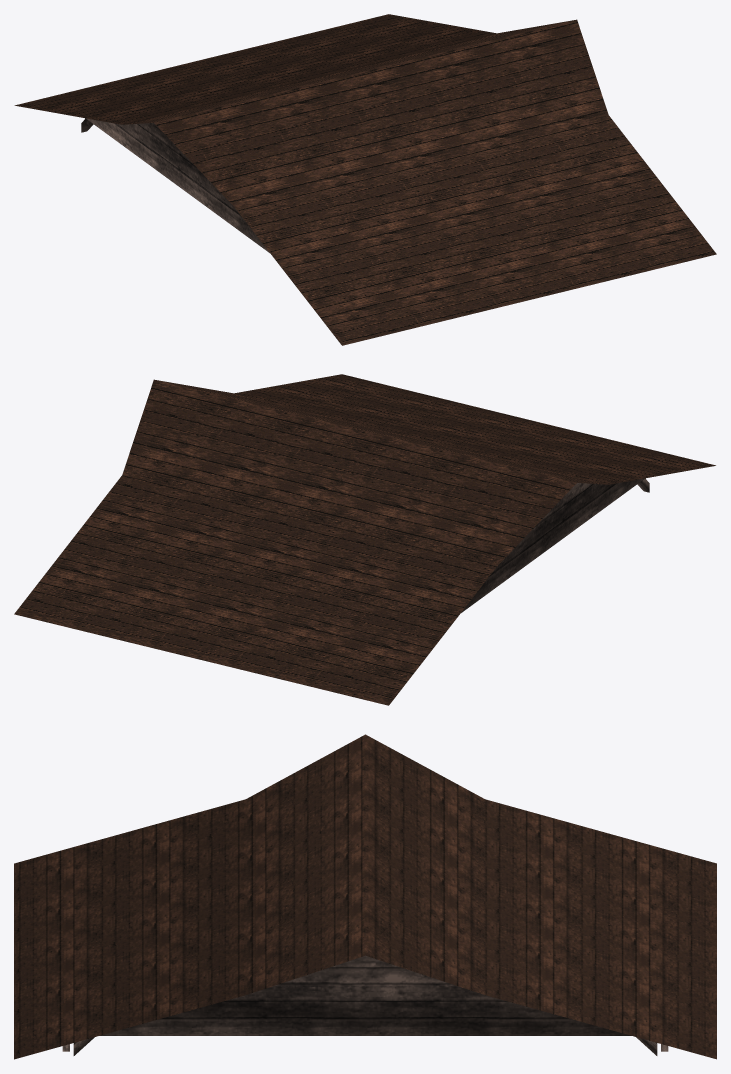
The model's file is STATIONROOF.obj.
3 renders of one model, top to bottom at view 1: azimuth 30°, elevation 25°; view 2: azimuth 150°, elevation 25°; view 3: azimuth 270°, elevation 25°, orthographic. The views are drawn at different scales.
Visible parts, largest first — view 1: support; view 2: support; view 3: support.
Part boxes in pixels (x1=…): support: x1=14, y1=14, x2=716, y2=345; support: x1=14, y1=374, x2=715, y2=705; support: x1=14, y1=734, x2=716, y2=1059.
Size of the model in its own units: 280 by 79.04 by 376.
